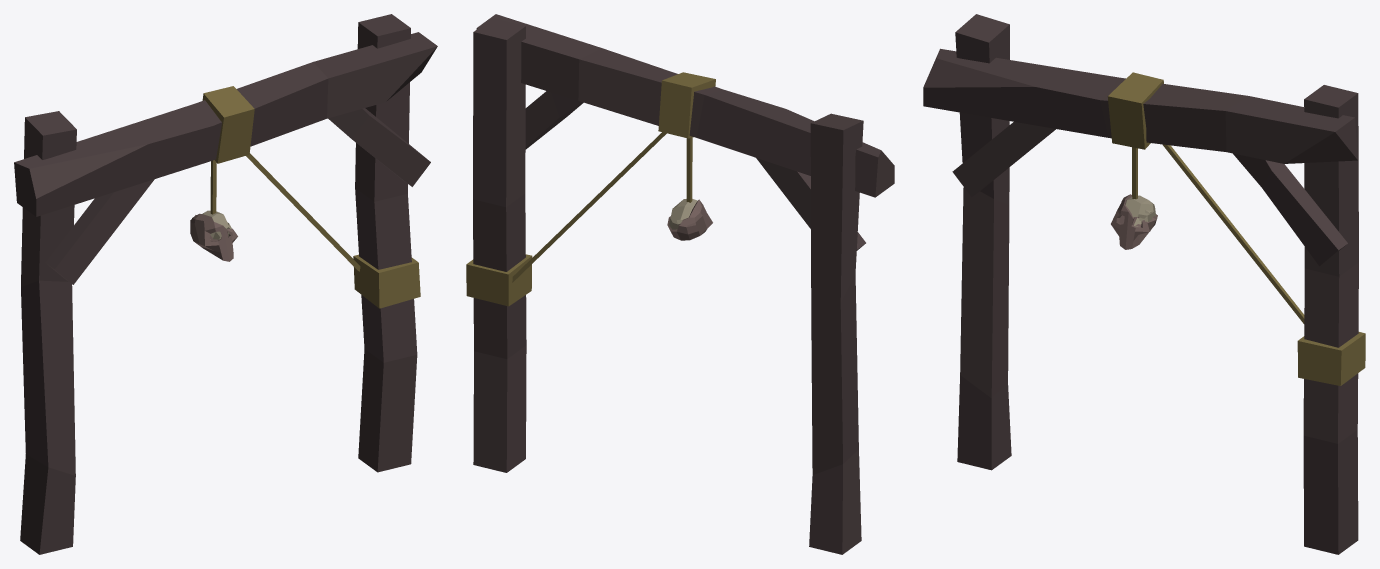
The model's file is decoration1.fbx.
3 views of the same model, side by side, from view 1: azimuth 30°, elevation 25°; view 2: azimuth 150°, elevation 25°; view 3: azimuth 330°, elevation 25° (orthographic). The views are drawn at different scales.
Visible parts, largest first — view 1: Wood_Hanger01; view 2: Wood_Hanger01; view 3: Wood_Hanger01.
Part boxes in pixels (x1,y1,x2,y2): Wood_Hanger01: (14,14,437,554); Wood_Hanger01: (466,14,894,554); Wood_Hanger01: (923,14,1365,554).
Bounding box in the file's own units: 813 × 831 × 139.
